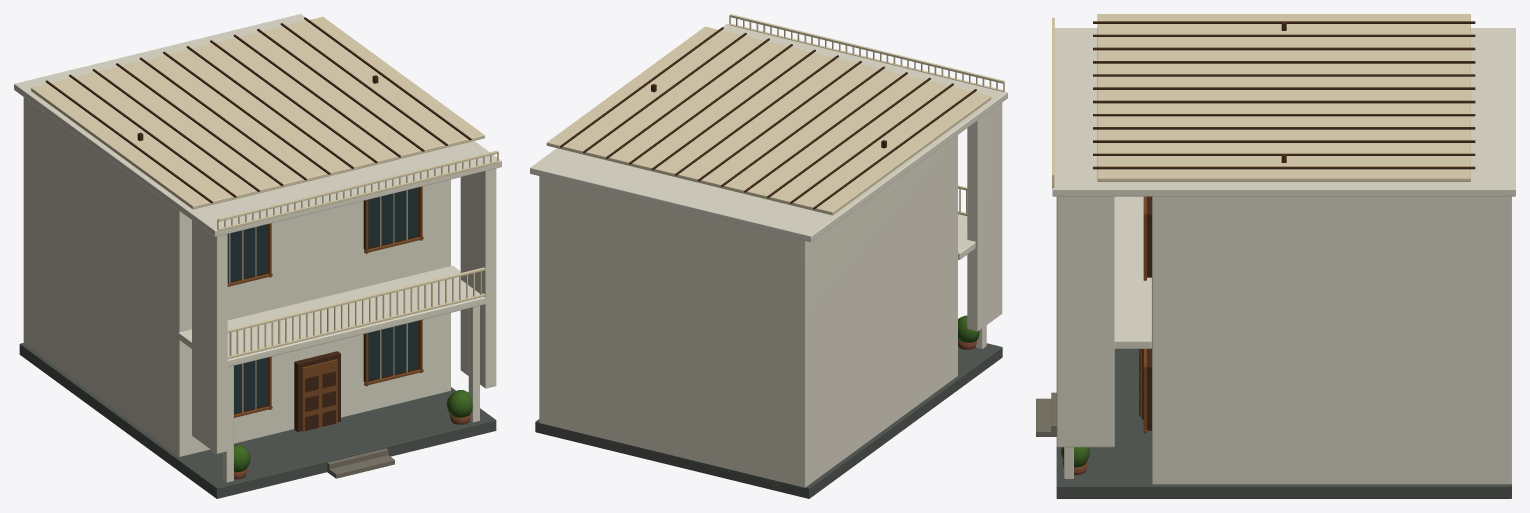
Rendered from modern-villa.glb.
3 renders of one model, left to right at view 1: azimuth 30°, elevation 25°; view 2: azimuth 150°, elevation 25°; view 3: azimuth 270°, elevation 25°, orthographic. The views are drawn at different scales.
Parts seen in each view (by area): view 1: Surface_Lime_plaster, Surface_Trim, Surface_Basalt, Surface_Timber, Surface_Recessed_glazing, Surface_Painted_joinery, Surface_Stone_paving, Surface_Foliage; view 2: Surface_Lime_plaster, Surface_Trim, Surface_Timber, Surface_Basalt; view 3: Surface_Lime_plaster, Surface_Trim, Surface_Timber, Surface_Basalt, Surface_Painted_joinery, Surface_Stone_paving.
Boxes of the visible parts, x1,y1,x2,y2 form: Surface_Lime_plaster: (14,14,501,482); Surface_Trim: (31,16,498,412); Surface_Basalt: (19,343,496,498); Surface_Timber: (45,17,471,431); Surface_Recessed_glazing: (227,187,417,413); Surface_Painted_joinery: (227,186,423,431); Surface_Stone_paving: (327,448,394,478); Surface_Foliage: (233,390,472,472); Surface_Lime_plaster: (530,24,1007,487); Surface_Trim: (546,14,1004,215); Surface_Timber: (560,27,976,209); Surface_Basalt: (535,343,1002,498); Surface_Lime_plaster: (1052,28,1515,484); Surface_Trim: (1052,14,1470,188); Surface_Timber: (1093,21,1475,430); Surface_Basalt: (1056,349,1511,498); Surface_Painted_joinery: (1140,196,1146,433); Surface_Stone_paving: (1036,392,1056,436).
Bounding box in the file's own units: 9.4 × 8.85 × 11.6.
